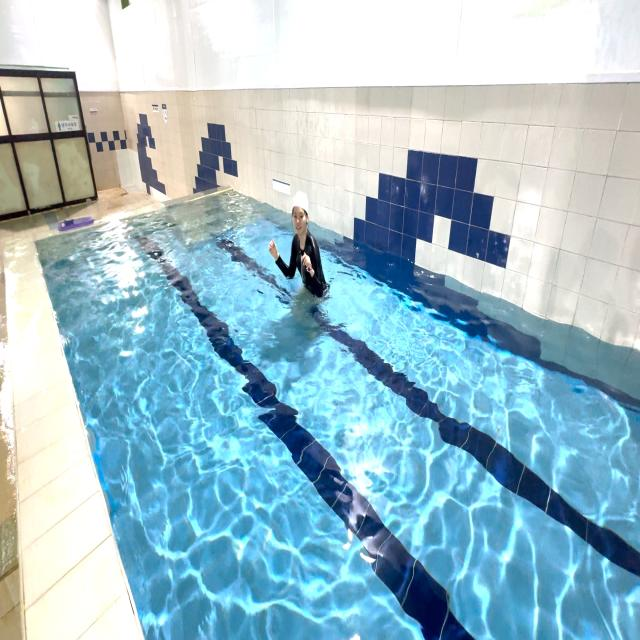Swimming: (268, 191, 327, 300)
